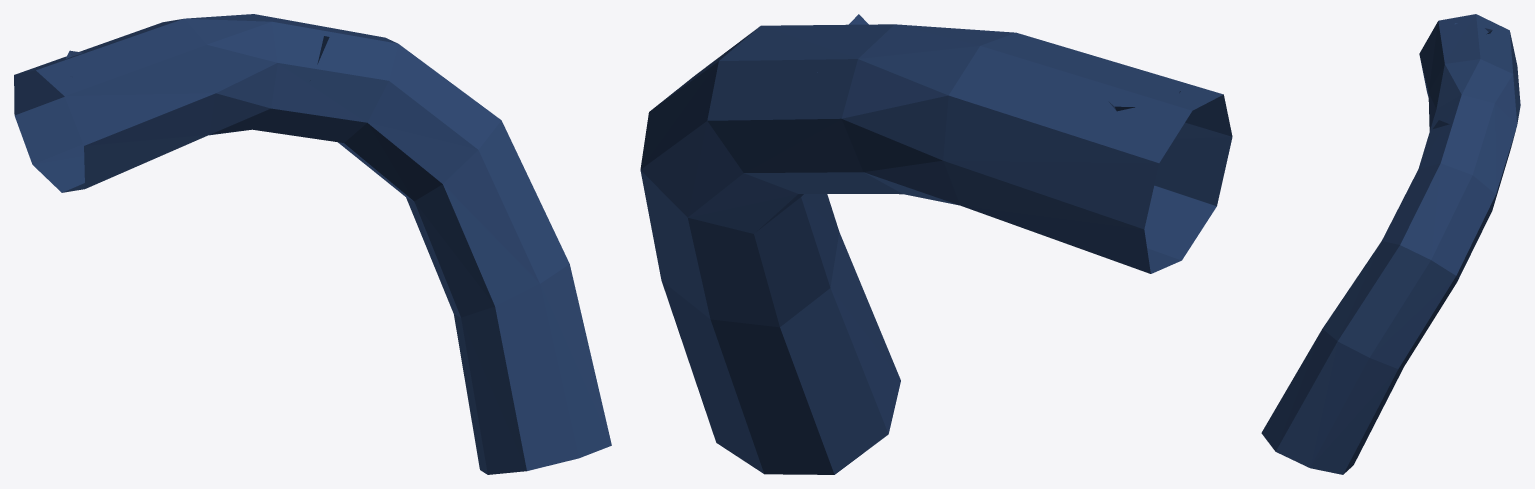
The model's file is Vena Braquiocefálica Derecha.FBX.
The picture shows the model from 3 angles, left to right: view 1: azimuth 30°, elevation 25°; view 2: azimuth 150°, elevation 25°; view 3: azimuth 270°, elevation 25°; orthographic projection. The views are drawn at different scales.
Visible parts, largest first — view 1: CS_Veins; view 2: CS_Veins; view 3: CS_Veins.
Boxes of the visible parts, x1,y1,x2,y2 form: CS_Veins: [14, 14, 611, 474]; CS_Veins: [640, 14, 1232, 474]; CS_Veins: [1261, 14, 1520, 474].
Bounding box in the file's own units: 109 × 99.89 × 73.59.
